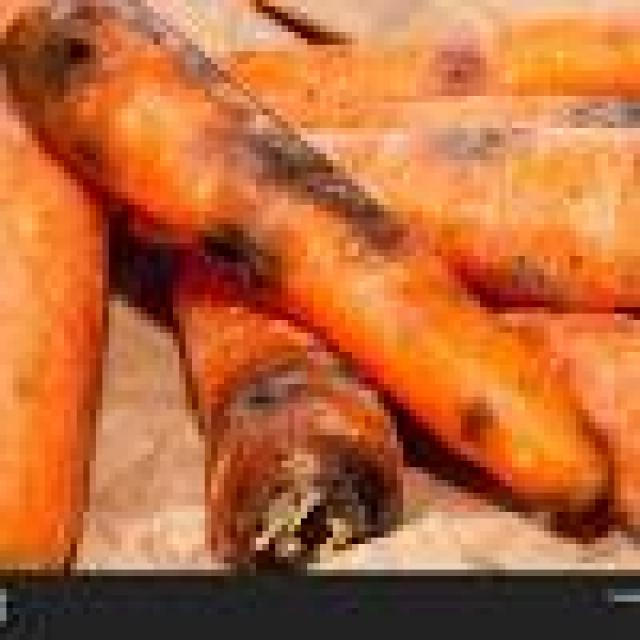Stale_Carrot: (2, 9, 605, 514), (163, 235, 415, 572), (305, 109, 640, 305)
